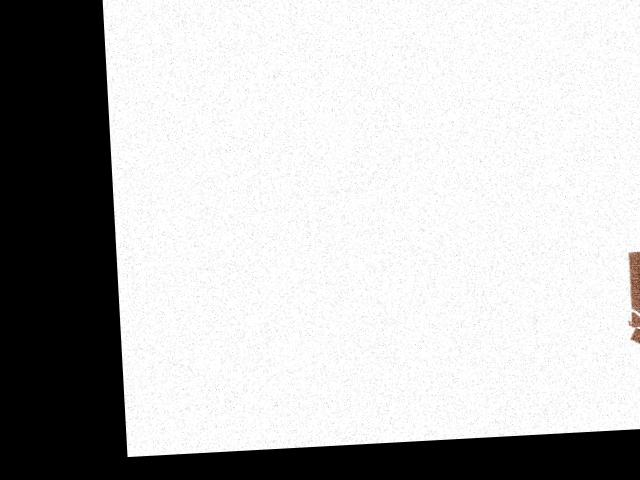chocolate: (615, 248, 640, 351)
